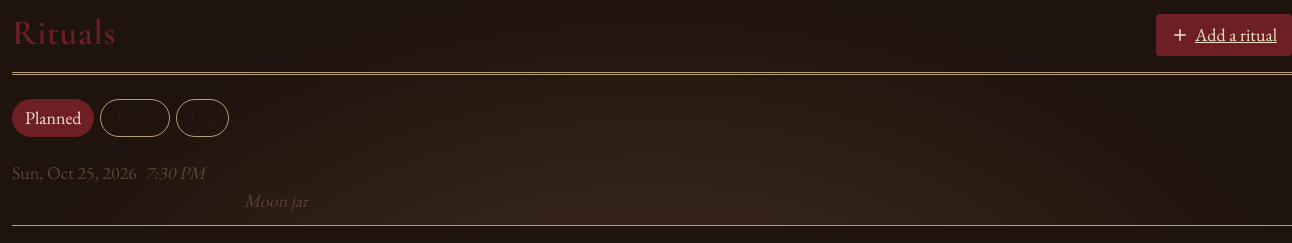
Test: Rituals list › keeps the tab in the URL, and To log rows get a Log it link
Step 1. Click the button "To log" → (135, 118), box [100,99,170,137]
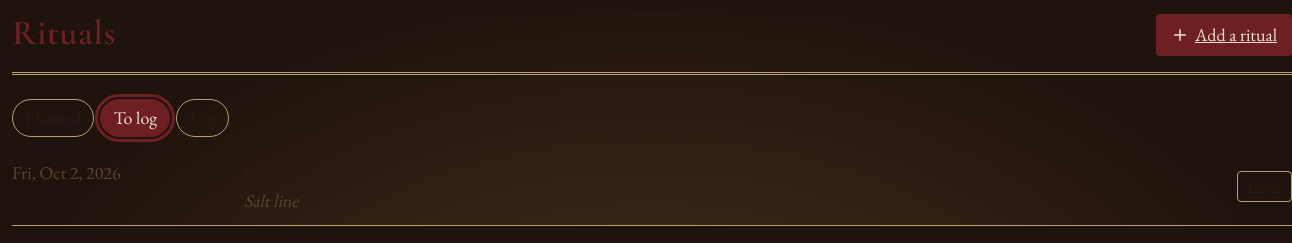
Check: the text "Salt line" is shown, box [244,189,298,212]
